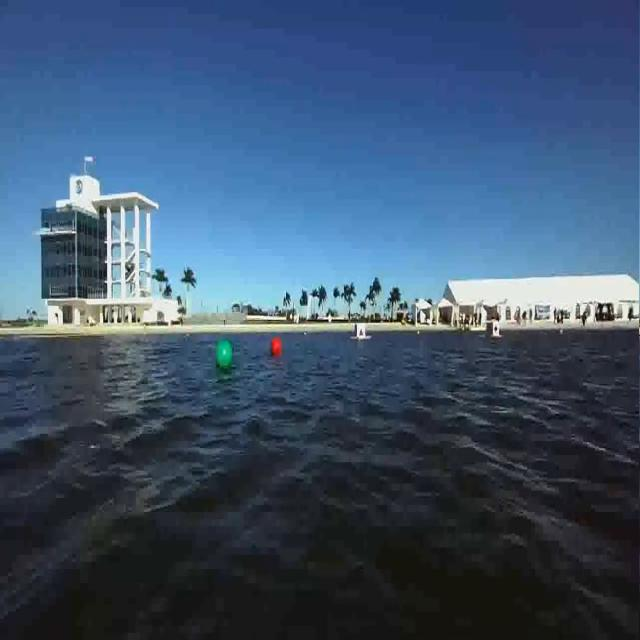green-buoy: (216, 339, 233, 370)
red-column-buoy: (273, 338, 283, 359)
